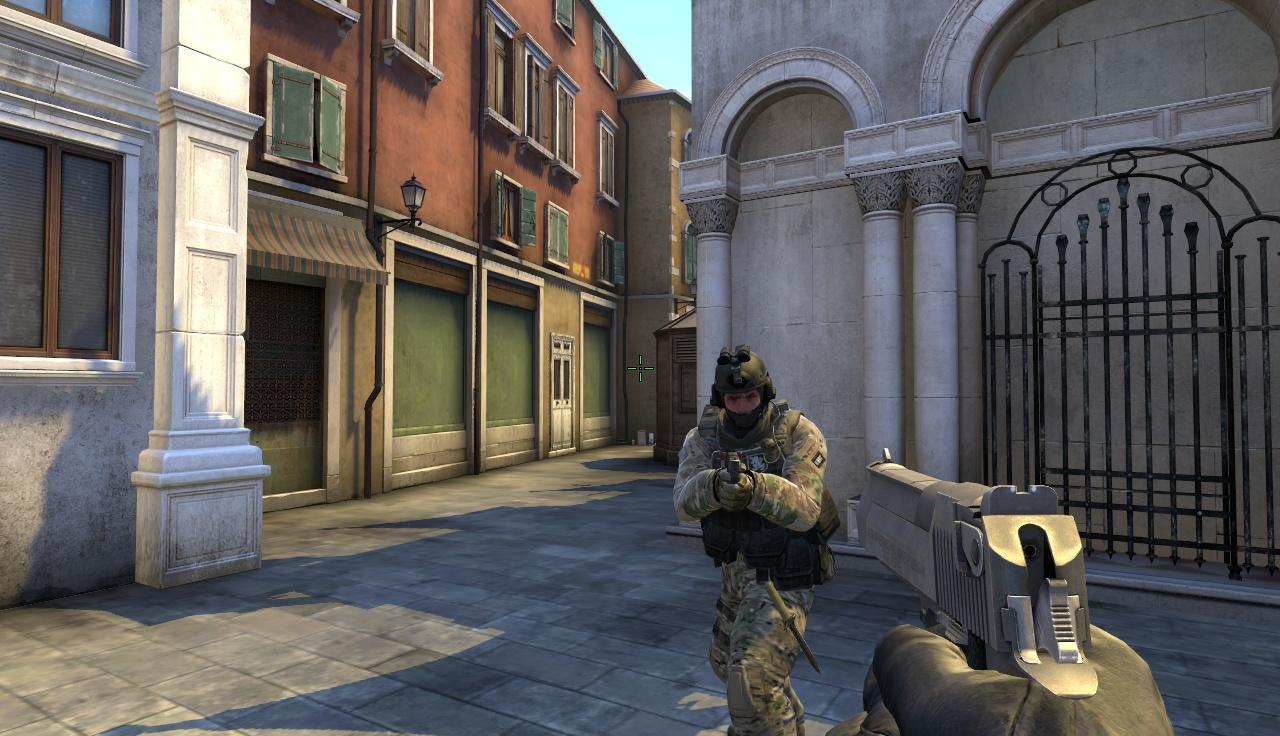ct: (682, 347, 839, 736)
cthead: (715, 347, 772, 427)
pistol: (855, 450, 1170, 736)
